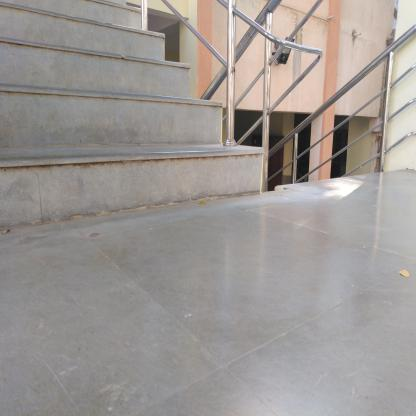stairs: (3, 3, 140, 238)
